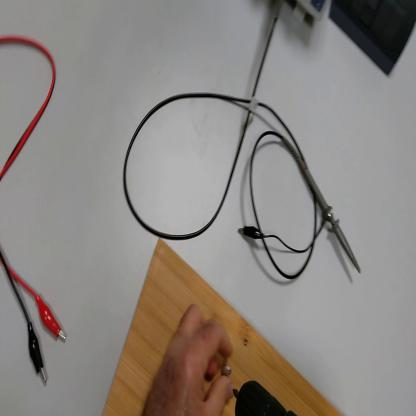electric screwdriver: (233, 382, 295, 414)
hand: (145, 307, 237, 415)
oscilloscope: (292, 3, 333, 25)
oscilloscope probe tip: (282, 137, 362, 271)
working area: (102, 239, 342, 416)
